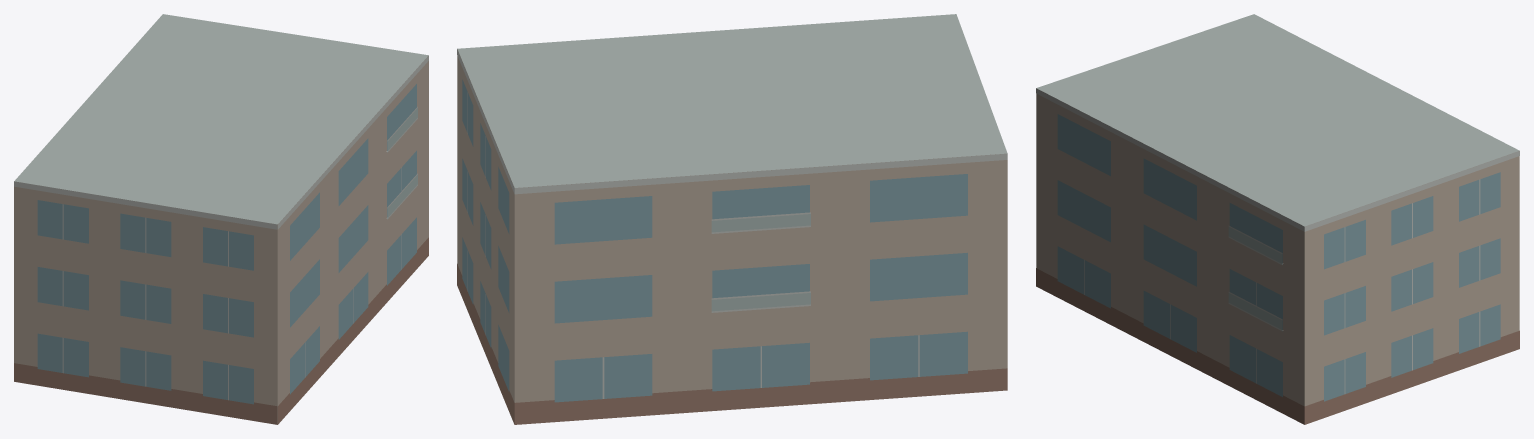
The model's file is survey-upis-32506560.glb.
The picture shows the model from 3 angles, left to right: view 1: azimuth 30°, elevation 25°; view 2: azimuth 150°, elevation 25°; view 3: azimuth 270°, elevation 25°; orthographic projection. The views are drawn at different scales.
Visible parts, largest first — view 1: survey-upis-32506560.tmp; view 2: survey-upis-32506560.tmp; view 3: survey-upis-32506560.tmp.
Boxes of the visible parts, x1,y1,x2,y2 form: survey-upis-32506560.tmp: (14,14,428,424); survey-upis-32506560.tmp: (457,14,1007,424); survey-upis-32506560.tmp: (1036,14,1519,424).
Size of the model in its own units: 21.04 by 9.15 by 20.23.
